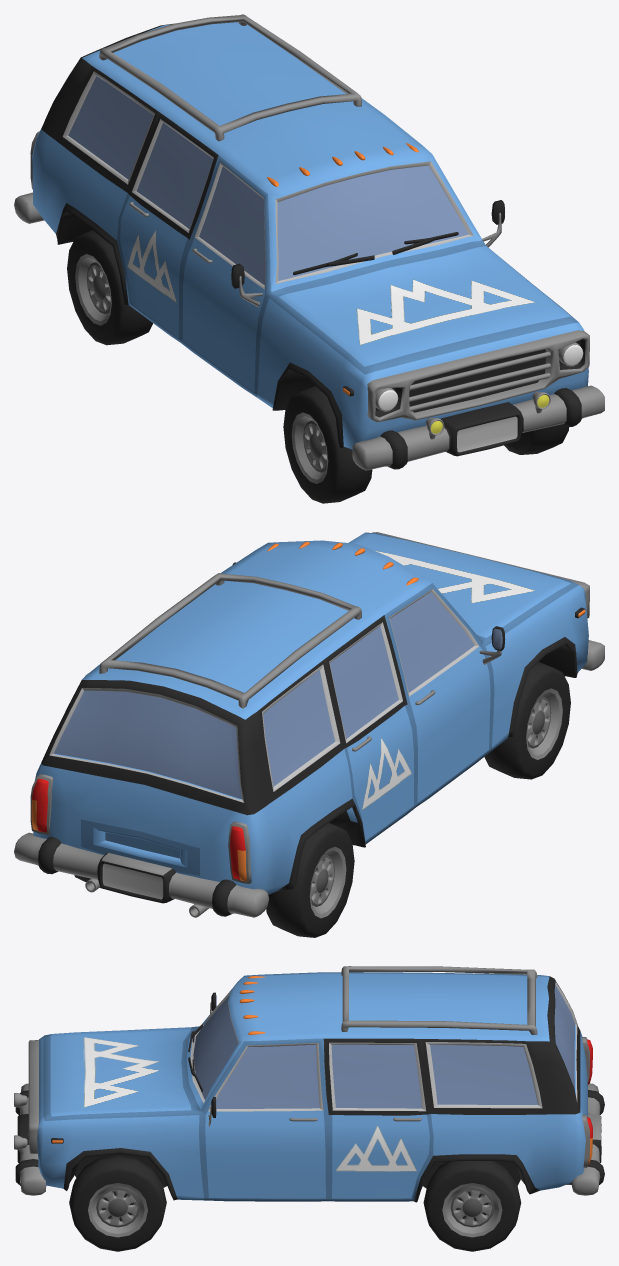
The model's file is Car.fbx.
The picture shows the model from 3 angles, top to bottom: view 1: azimuth 30°, elevation 25°; view 2: azimuth 150°, elevation 25°; view 3: azimuth 270°, elevation 25°; orthographic projection. The views are drawn at different scales.
Visible parts, largest first — view 1: Car body.001, Wheel.R, Wheel.R.001, Wheel.L; view 2: Car body.001, Wheel.R.001, Wheel.R; view 3: Car body.001, Wheel.L, Wheel.L.001.
Boxes of the visible parts, <box> form: Car body.001: <box>14,14,604,470</box>; Wheel.R: <box>283,386,372,503</box>; Wheel.R.001: <box>67,230,152,345</box>; Wheel.L: <box>504,424,569,454</box>; Car body.001: <box>14,532,604,917</box>; Wheel.R.001: <box>266,823,354,937</box>; Wheel.R: <box>484,662,570,779</box>; Car body.001: <box>14,966,604,1202</box>; Wheel.L: <box>69,1154,166,1251</box>; Wheel.L.001: <box>423,1161,521,1251</box>.
Size of the model in its own units: 2.32 by 2.17 by 5.33.
